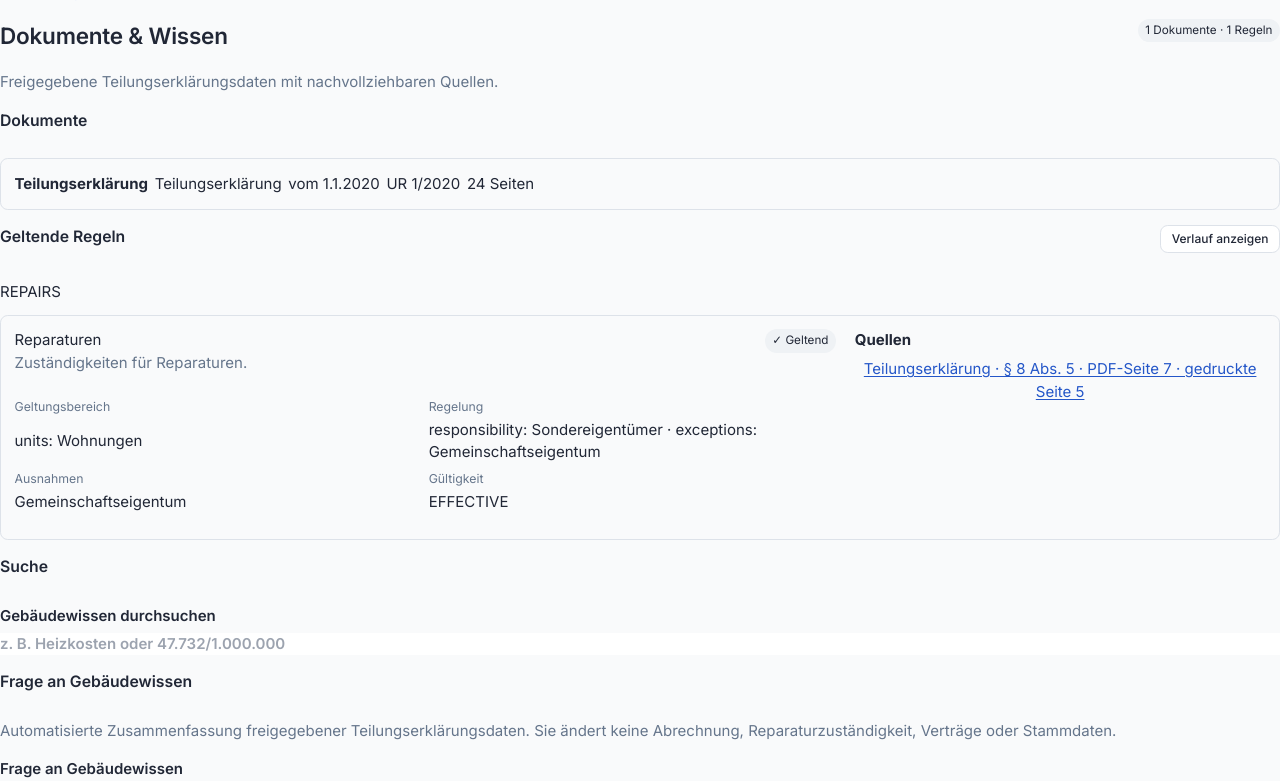
Scenario: Dokumente & Wissen › expands rules accessibly and distinguishes Q&A abstention states
Click the button with aria-label "Reparaturen ein-/ausklappen": (58, 340) [14,329,101,352]
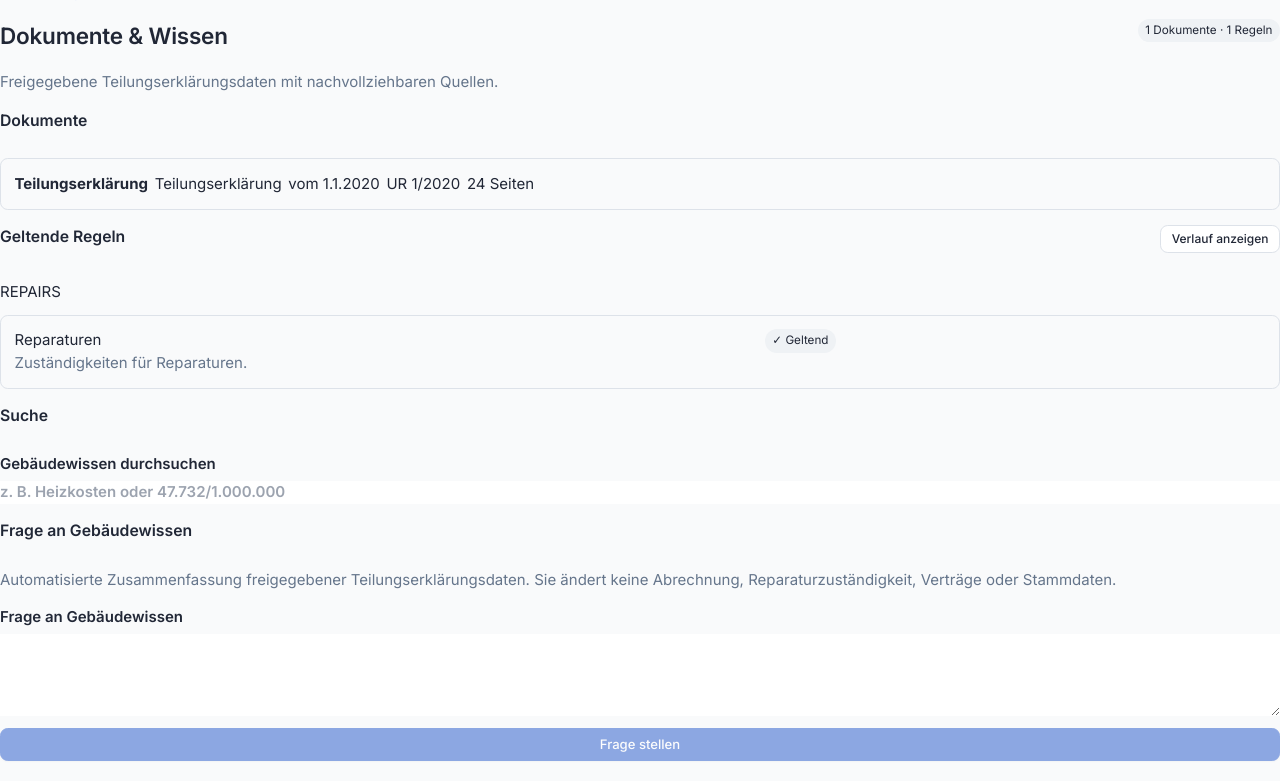
In the text box labelled "Frage an Gebäudewissen": (640, 675) [0,634,1279,716], type "Frage eins"
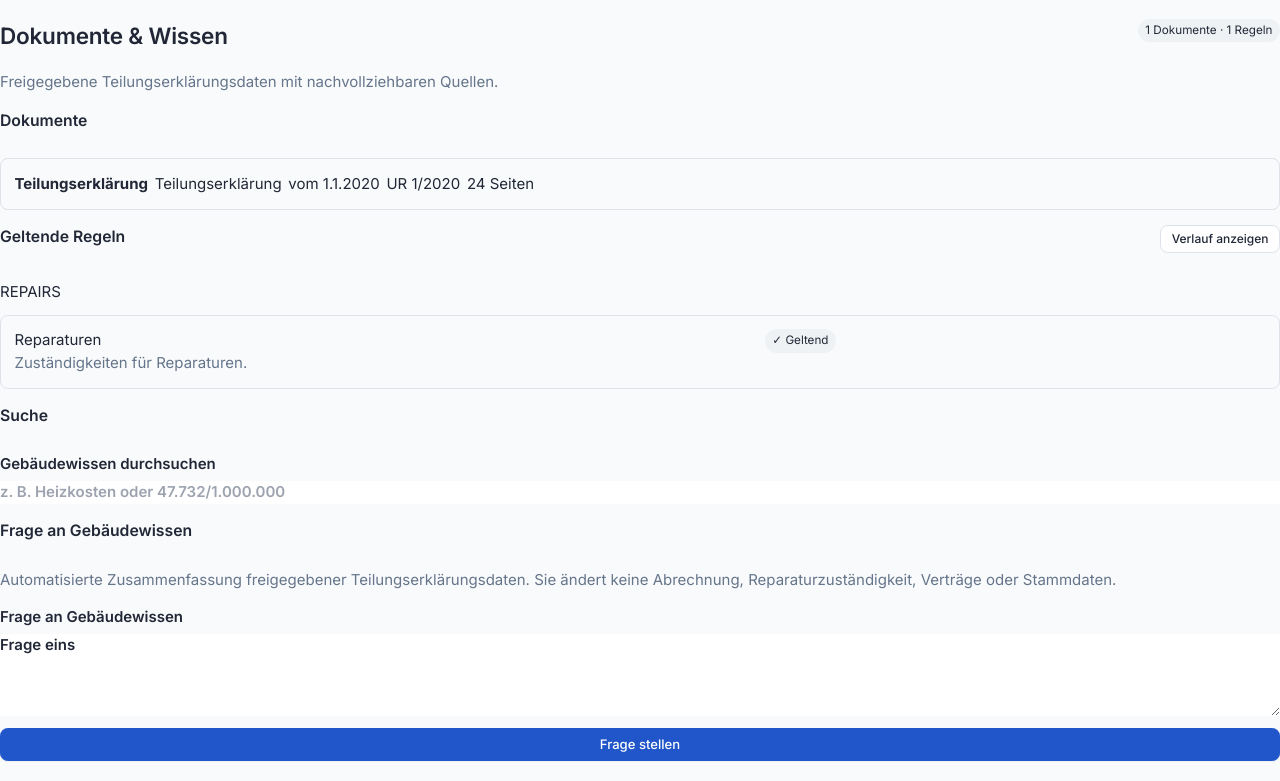
Click the button "Frage stellen": (640, 744) [0,728,1279,761]
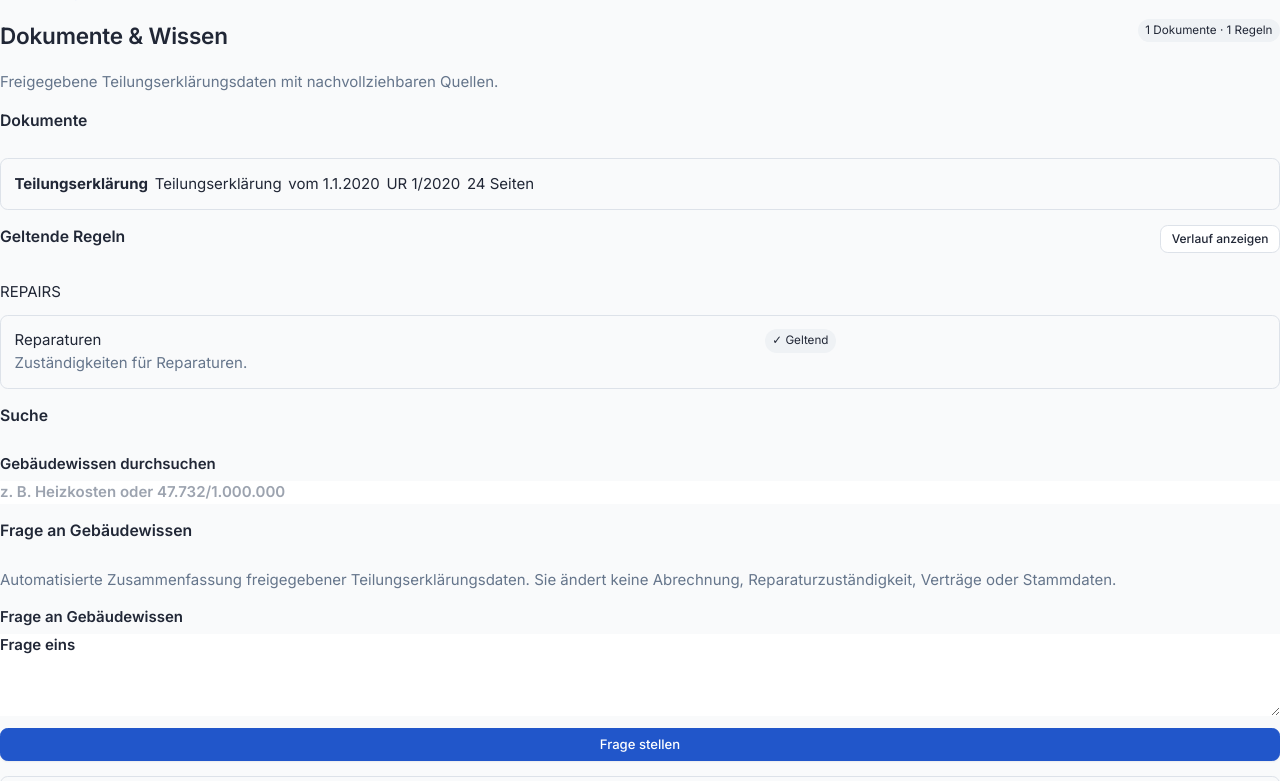
Replace the text in the text box labelled "Frage an Gebäudewissen" with "Frage zwei": (640, 675) [0,634,1279,716]
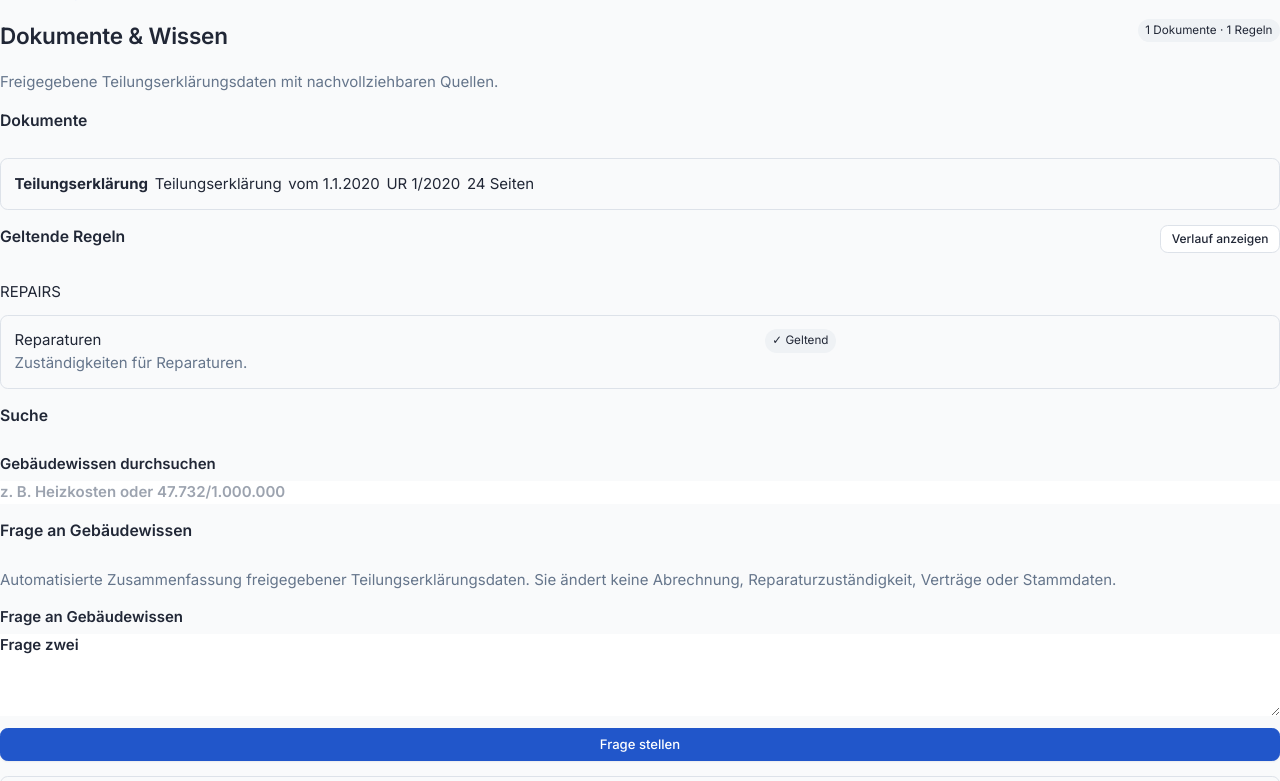
Click the button "Frage stellen": (640, 744) [0,728,1279,761]
(page scrolled)
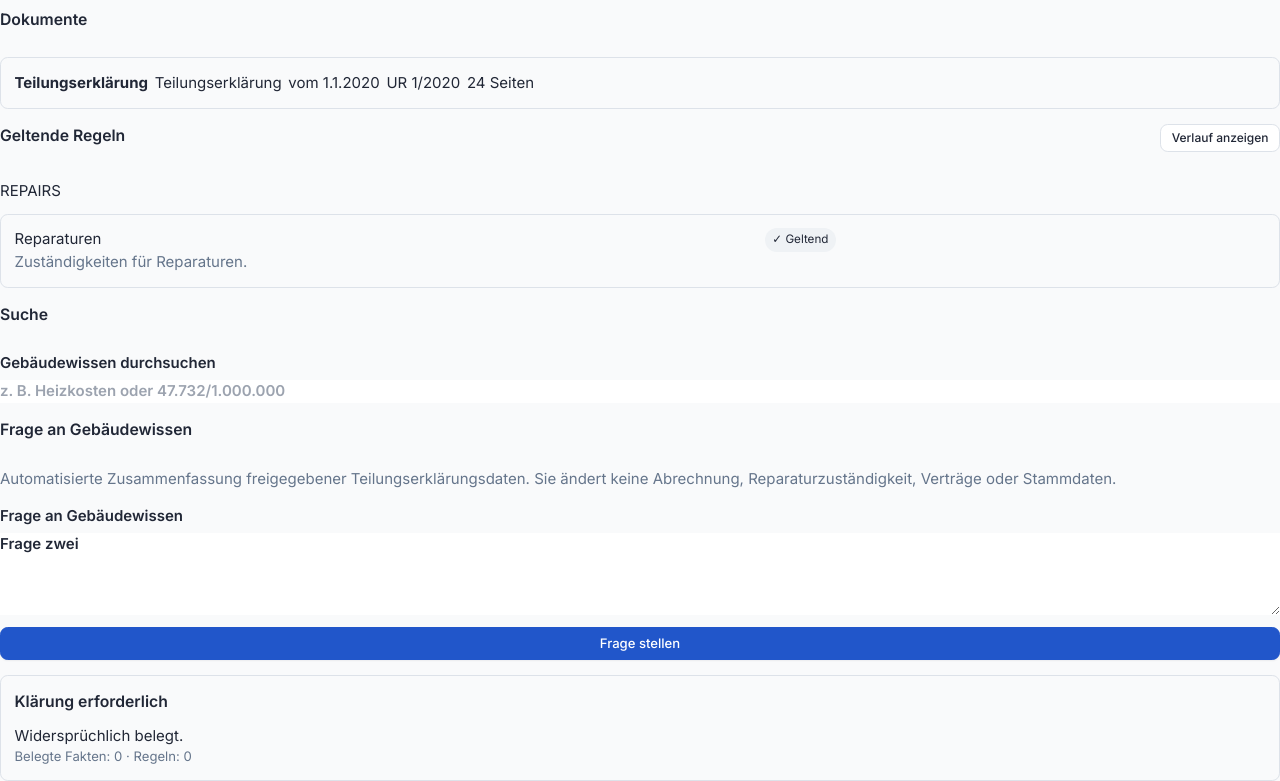
expect the heading "Klärung erforderlich" is shown: met, box [14,692,168,711]
